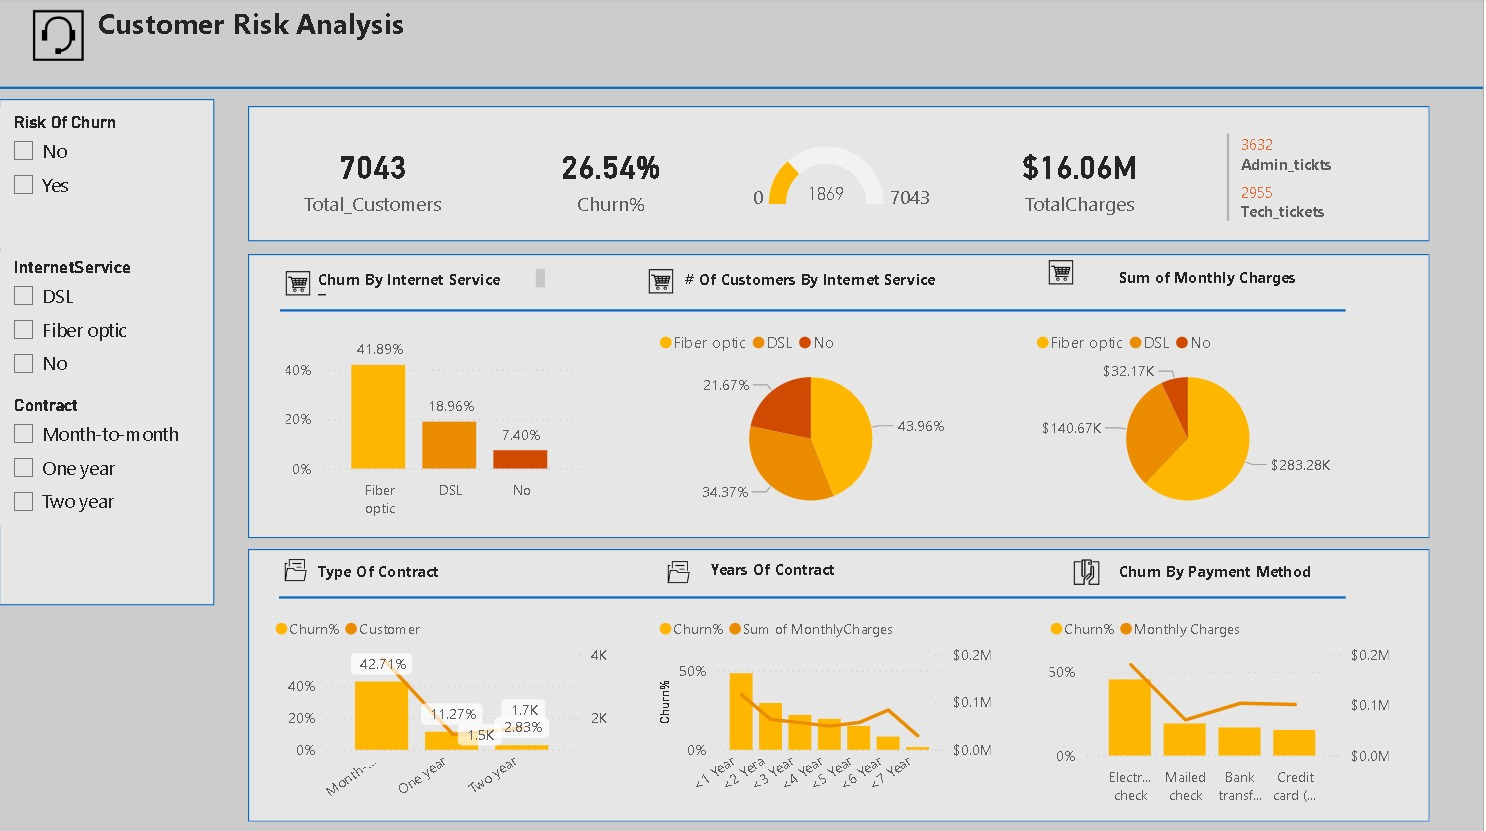

What the dashboard file says about the page in this screenshot:
{"tool":"powerbi","page":{"name":"Total Report","canvas":[1280,720],"ordinal":1},"visuals":[{"type":"shape","box":[0,87.5,185.8,436.7],"z":0,"group":"g1"},{"type":"shape","box":[215,93.4,1019.3,116.7],"z":1000,"group":"g1"},{"type":"shape","box":[215,475.6,1019.3,235.4],"z":2000,"group":"g1"},{"type":"shape","box":[215,220.8,1019.3,245.1],"z":3000,"group":"g1"},{"type":"card","fields":{"Values":["01 Churn-Dataset.Total_Customers"]},"box":[232.5,111.9,179,85.6],"z":4000,"group":"g1"},{"type":"card","fields":{"Values":["01 Churn-Dataset.Churn%"]},"box":[440.6,111.9,174.1,85.6],"z":5000,"group":"g1"},{"type":"gauge","fields":{"Y":["01 Churn-Dataset.left_customers"]},"box":[640,112.8,174.1,84.6],"z":6000,"group":"g1"},{"type":"card","fields":{"Values":["Sum(01 Churn-Dataset.TotalCharges)"]},"box":[847.2,111.9,169.2,85.6],"z":7000,"group":"g1"},{"type":"multiRowCard","fields":{"Values":["01 Churn-Dataset.Admin_tickts","01 Churn-Dataset.Tech_tickets"]},"box":[1054.3,111.9,172.2,85.6],"z":8000,"group":"g1"},{"type":"clusteredColumnChart","fields":{"Category":["01 Churn-Dataset.InternetService"],"Y":["01 Churn-Dataset.Churn%"]},"box":[242.2,277.2,262.6,178],"z":9000,"group":"g1"},{"type":"pieChart","fields":{"Category":["01 Churn-Dataset.InternetService"],"Y":["CountNonNull(01 Churn-Dataset.InternetService)"]},"box":[564.1,277.2,272.3,178],"z":10000,"group":"g1"},{"type":"pieChart","fields":{"Category":["01 Churn-Dataset.InternetService"],"Y":["Sum(01 Churn-Dataset.MonthlyCharges)"]},"box":[889,277.2,272.3,178],"z":11000,"group":"g1"},{"type":"lineStackedColumnComboChart","fields":{"Category":["01 Churn-Dataset.Contract"],"Y":["01 Churn-Dataset.Churn%"],"Y2":["CountNonNull(01 Churn-Dataset.customerID)"]},"box":[232.5,524.3,295.7,178],"z":12000,"group":"g1"},{"type":"lineClusteredColumnComboChart","fields":{"Category":["01 Churn-Dataset.Loyalty"],"Y":["01 Churn-Dataset.Churn%"],"Y2":["Sum(01 Churn-Dataset.MonthlyCharges)"]},"box":[564.1,524.3,295.7,178],"z":13000,"group":"g1"},{"type":"lineClusteredColumnComboChart","fields":{"Category":["01 Churn-Dataset.PaymentMethod"],"Y":["01 Churn-Dataset.Churn%"],"Y2":["Sum(01 Churn-Dataset.MonthlyCharges)"]},"box":[901.6,524.3,301.5,178],"z":14000,"group":"g1"},{"type":"slicer","fields":{"Values":["01 Churn-Dataset.Contract"]},"box":[0,338.5,178,116.7],"z":15000,"group":"g1"},{"type":"slicer","fields":{"Values":["01 Churn-Dataset.InternetService"]},"box":[0,218.8,178,120.6],"z":16000,"group":"g1"},{"type":"slicer","fields":{"Values":["01 Churn-Dataset.Churn"]},"box":[0,94.3,178,120.6],"z":17000,"group":"g1"},{"type":"textbox","box":[270.4,228.6,206.2,33.1],"z":18000,"group":"g1"},{"type":"image","box":[242.2,228.6,31.1,35],"z":19000,"group":"g1"},{"type":"textbox","box":[586.5,228.6,250,30.2],"z":20000,"group":"g1"},{"type":"image","box":[555.4,226.6,31.1,35],"z":21000,"group":"g1"},{"type":"textbox","box":[961,226.6,185.8,27.2],"z":22000,"group":"g1"},{"type":"image","box":[900.7,218.8,31.1,35],"z":23000,"group":"g1"},{"type":"shape","box":[242.2,258.7,919.1,21.4],"z":24000,"group":"g1"},{"type":"textbox","box":[270.4,480.5,185.8,30.2],"z":25000,"group":"g1"},{"type":"textbox","box":[608.9,478.5,185.8,31.1],"z":26000,"group":"g1"},{"type":"textbox","box":[961,480.5,185.8,34],"z":27000,"group":"g1"},{"type":"image","box":[241.2,470.8,29.2,45.7],"z":28000,"group":"g1"},{"type":"image","box":[571.9,472.7,29.2,45.7],"z":29000,"group":"g1"},{"type":"image","box":[922.1,475.6,32.1,39.9],"z":30000,"group":"g1"},{"type":"shape","box":[241.2,509.7,920.1,14.6],"z":31000,"group":"g1"},{"type":"textbox","box":[0,0,1280,59.3],"z":32000,"group":"g1"},{"type":"image","box":[17.5,4.9,67.1,54.5],"z":33000,"group":"g1"},{"type":"group","id":"g1","title":"Group 1","box":[0,0,1280,711],"z":33002},{"type":"shape","box":[0,67.1,1280,20.4],"z":34000,"group":"g1"}]}

Visuals, with their boxes in screenshot pixels (x1, y1, x2, y2), scaled from the page's 1280x720 canvas onto the 1486x831 screenshot:
shape: 0, 101, 216, 605
shape: 250, 108, 1433, 242
shape: 250, 549, 1433, 821
shape: 250, 255, 1433, 538
card - 01 Churn-Dataset.Total_Customers: 270, 129, 478, 228
card - 01 Churn-Dataset.Churn%: 512, 129, 714, 228
gauge - 01 Churn-Dataset.left_customers: 743, 130, 945, 228
card - Sum(01 Churn-Dataset.TotalCharges): 984, 129, 1180, 228
multiRowCard - 01 Churn-Dataset.Admin_tickts x 01 Churn-Dataset.Tech_tickets: 1224, 129, 1424, 228
clusteredColumnChart - 01 Churn-Dataset.InternetService x 01 Churn-Dataset.Churn%: 281, 320, 586, 525
pieChart - 01 Churn-Dataset.InternetService x CountNonNull(01 Churn-Dataset.InternetService): 655, 320, 971, 525
pieChart - 01 Churn-Dataset.InternetService x Sum(01 Churn-Dataset.MonthlyCharges): 1032, 320, 1348, 525
lineStackedColumnComboChart - 01 Churn-Dataset.Contract x 01 Churn-Dataset.Churn%: 270, 605, 613, 811
lineClusteredColumnComboChart - 01 Churn-Dataset.Loyalty x 01 Churn-Dataset.Churn%: 655, 605, 998, 811
lineClusteredColumnComboChart - 01 Churn-Dataset.PaymentMethod x 01 Churn-Dataset.Churn%: 1047, 605, 1397, 811
slicer - 01 Churn-Dataset.Contract: 0, 391, 207, 525
slicer - 01 Churn-Dataset.InternetService: 0, 253, 207, 392
slicer - 01 Churn-Dataset.Churn: 0, 109, 207, 248
textbox: 314, 264, 553, 302
image: 281, 264, 317, 304
textbox: 681, 264, 971, 299
image: 645, 262, 681, 302
textbox: 1116, 262, 1331, 293
image: 1046, 253, 1082, 293
shape: 281, 299, 1348, 323
textbox: 314, 555, 530, 589
textbox: 707, 552, 923, 588
textbox: 1116, 555, 1331, 594
image: 280, 543, 314, 596
image: 664, 546, 698, 598
image: 1071, 549, 1108, 595
shape: 280, 588, 1348, 605
textbox: 0, 0, 1485, 68
image: 20, 6, 98, 69
"Group 1" group: 0, 0, 1485, 821
shape: 0, 77, 1485, 101
